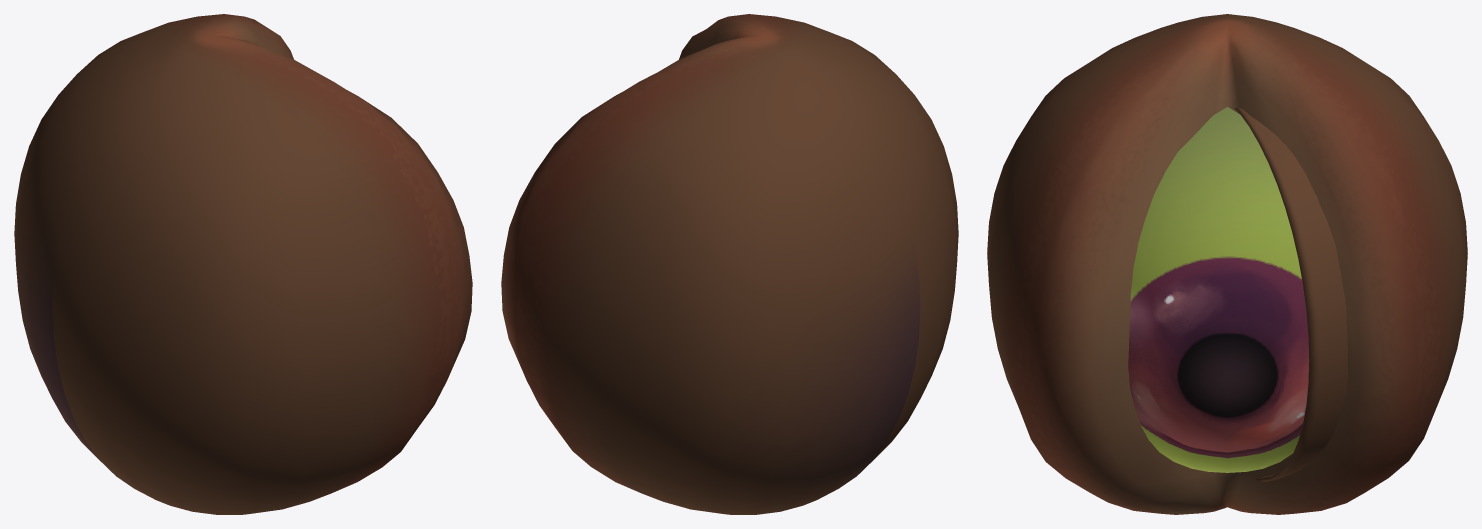
File: AngelTreeJustEye.fbx
3 views of the same model, side by side, from view 1: azimuth 30°, elevation 25°; view 2: azimuth 150°, elevation 25°; view 3: azimuth 270°, elevation 25° (orthographic). The views are drawn at different scales.
Parts seen in each view (by area): view 1: polySurface1; view 2: polySurface1; view 3: polySurface1, polySurface3, polySurface2.
Part boxes in pixels (x1,y1,x2,y2): polySurface1: [14, 14, 472, 514]; polySurface1: [501, 14, 958, 514]; polySurface1: [987, 14, 1467, 514]; polySurface3: [1128, 107, 1309, 472]; polySurface2: [1235, 108, 1347, 481].
Size of the model in its own units: 82.47 by 105 by 95.51.
Materials: 1 (1 with a texture image).
